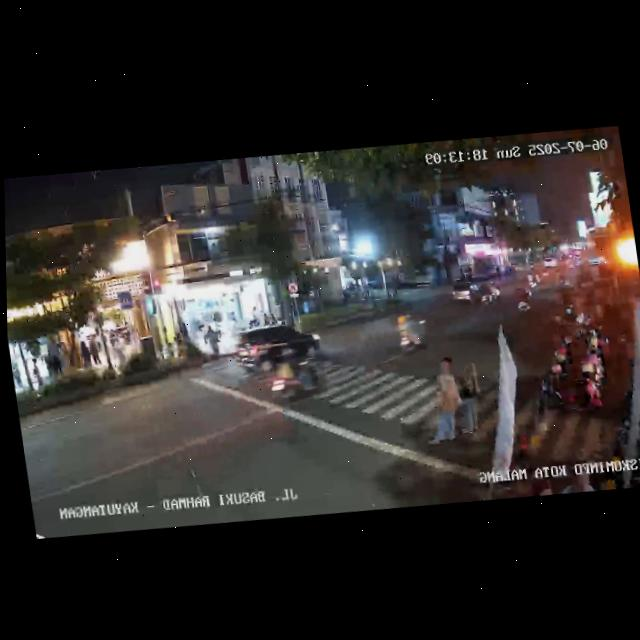car: (231, 318, 323, 377), (446, 275, 493, 308)
motorcycle: (265, 342, 326, 410), (394, 308, 432, 357), (513, 285, 534, 316), (481, 279, 504, 306), (524, 268, 543, 292)
person: (416, 367, 465, 445), (451, 357, 489, 437), (429, 356, 460, 391), (203, 323, 220, 359), (112, 334, 127, 373), (48, 350, 65, 383), (78, 336, 94, 369), (88, 334, 102, 368), (31, 362, 44, 394), (10, 359, 23, 391), (248, 306, 262, 327)
